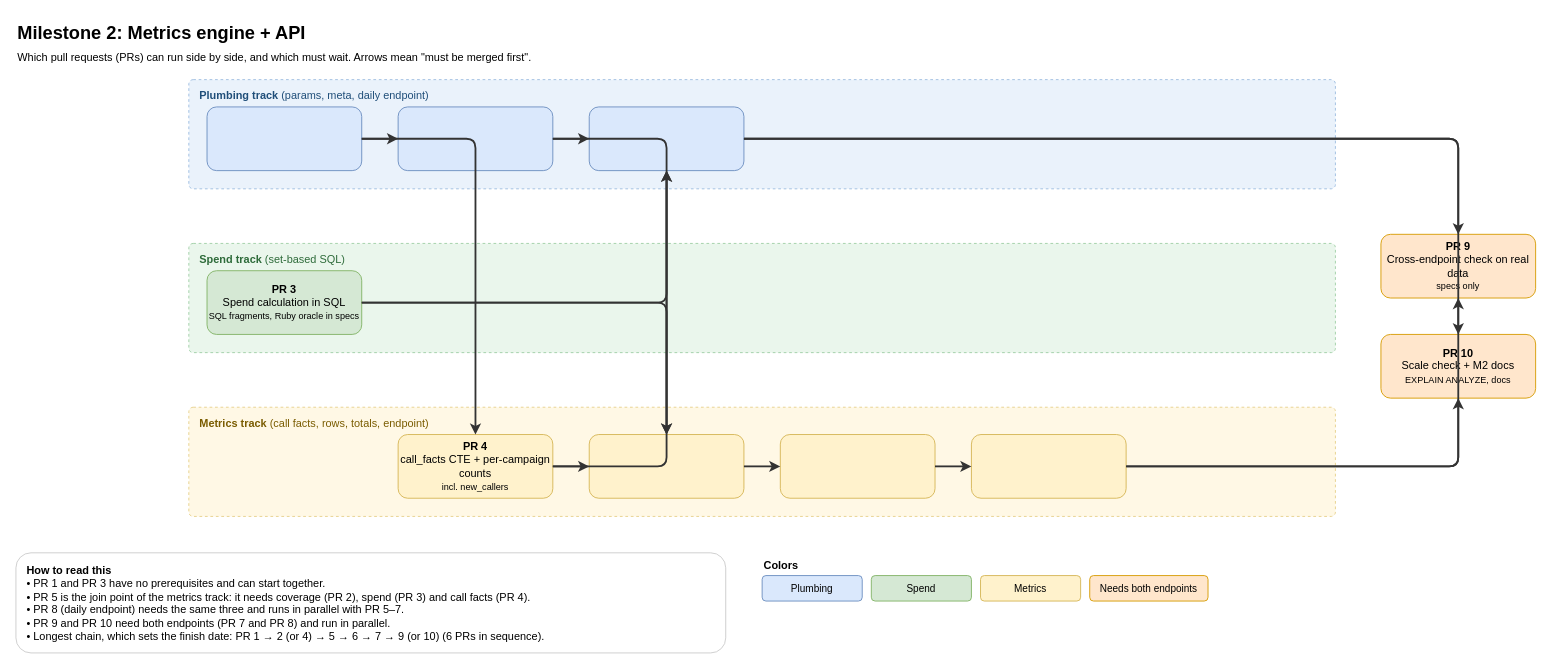
Image size: 1552x669. Some labels were removed from this diagram. Each missing label, with the box of its shape:
PR 1 API base, params, errors, spec helpers: (206, 106, 362, 171)
PR 2 Data coverage + /api/meta: (397, 106, 553, 171)
PR 5 Campaign rows: spend and ratios needs 2, 3 and 4: (588, 434, 744, 498)
PR 6 Totals and totals.paid: (779, 434, 935, 498)
PR 7 GET /api/campaigns/metrics: (971, 434, 1126, 498)
PR 8 GET /api/campaigns/:id/daily needs 2, 3 and 4: (588, 106, 744, 171)
